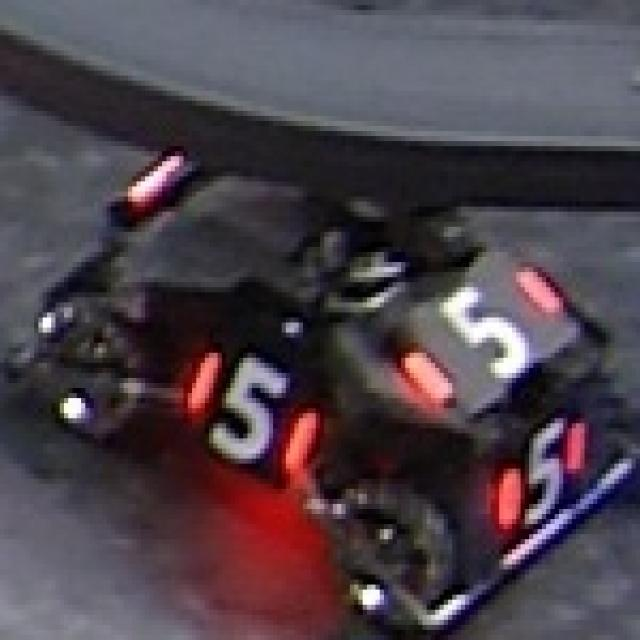R5: (397, 242, 563, 403), (175, 332, 324, 478), (482, 418, 606, 534)
